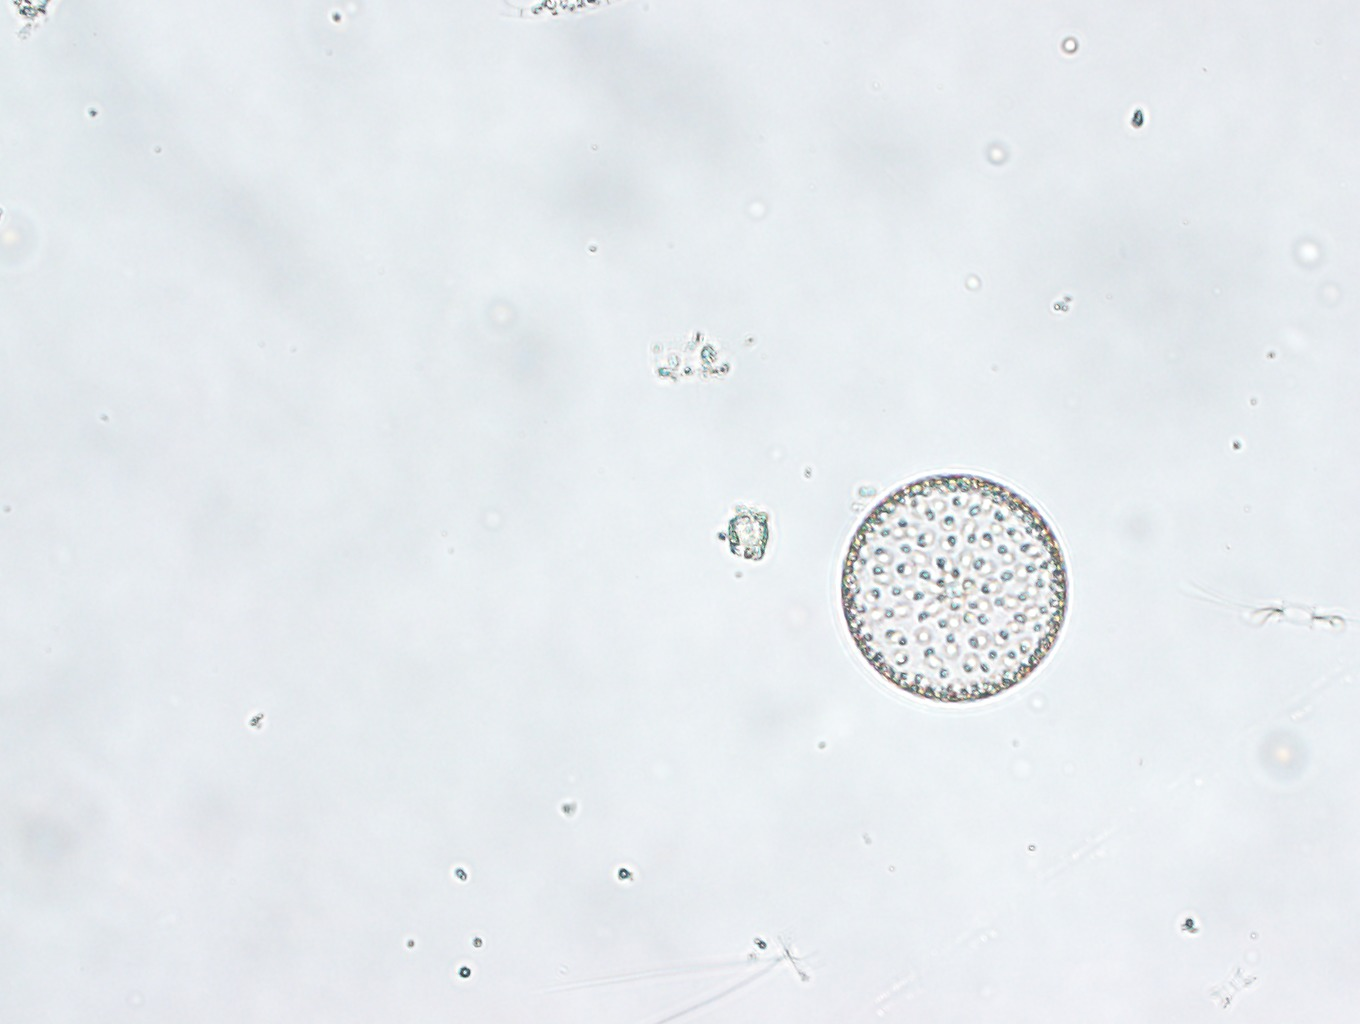coscinodiscus: (841, 472, 1069, 706)
